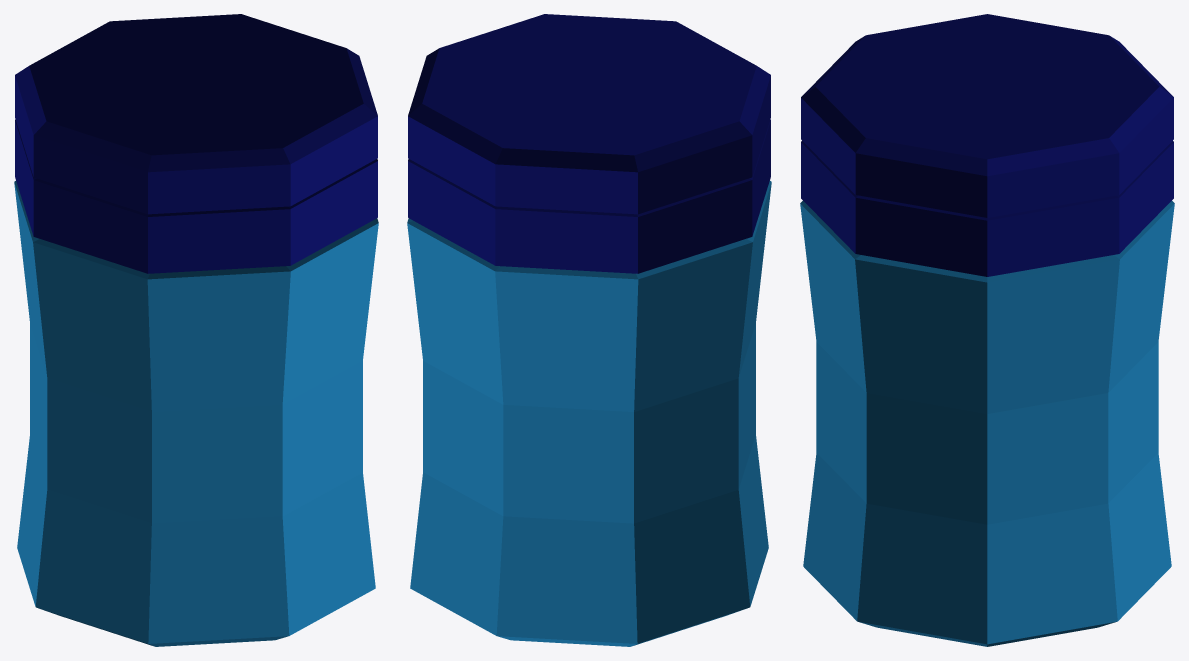
Rendered from Gum.fbx.
The picture shows the model from 3 angles, left to right: view 1: azimuth 30°, elevation 25°; view 2: azimuth 150°, elevation 25°; view 3: azimuth 270°, elevation 25°; orthographic projection.
Parts seen in each view (by area): view 1: Node 0; view 2: Node 0; view 3: Node 0.
Boxes of the visible parts, x1,y1,x2,y2 form: Node 0: [14, 14, 378, 646]; Node 0: [407, 14, 771, 646]; Node 0: [800, 14, 1174, 646].
Size of the model in its own units: 0.0484 by 0.0704 by 0.0484.
